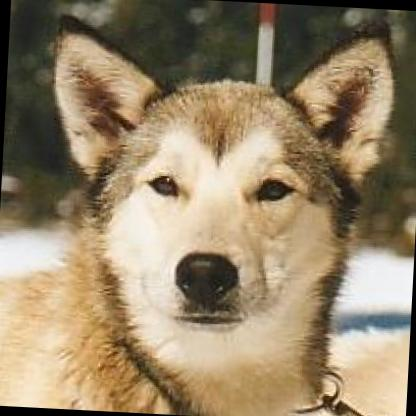Eskimo_dog: (0, 0, 402, 416)
